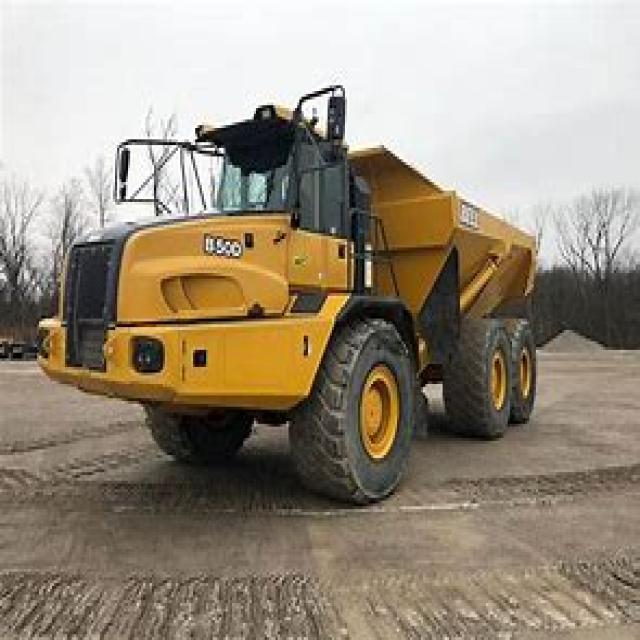dump_truck: (31, 80, 570, 506)
